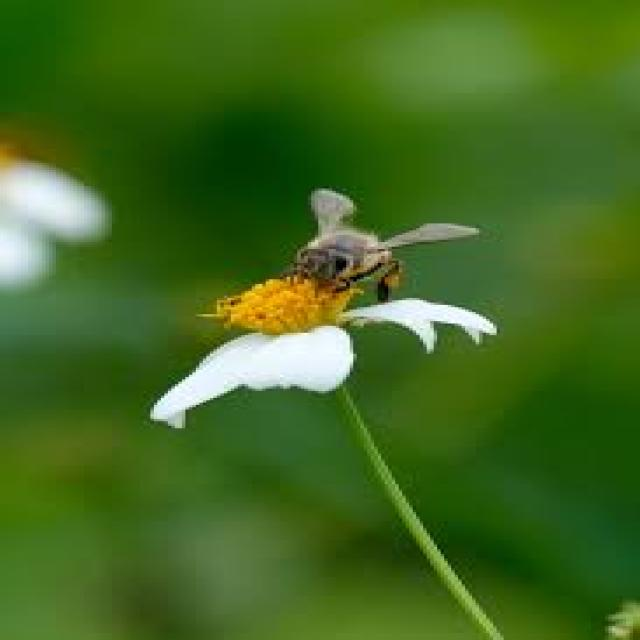Bees: (289, 189, 479, 301)
